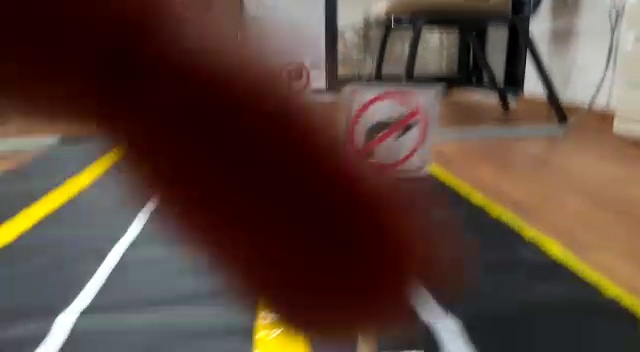park_yapilmaz: (280, 58, 313, 94)
saga_donulmez: (348, 85, 432, 171)
